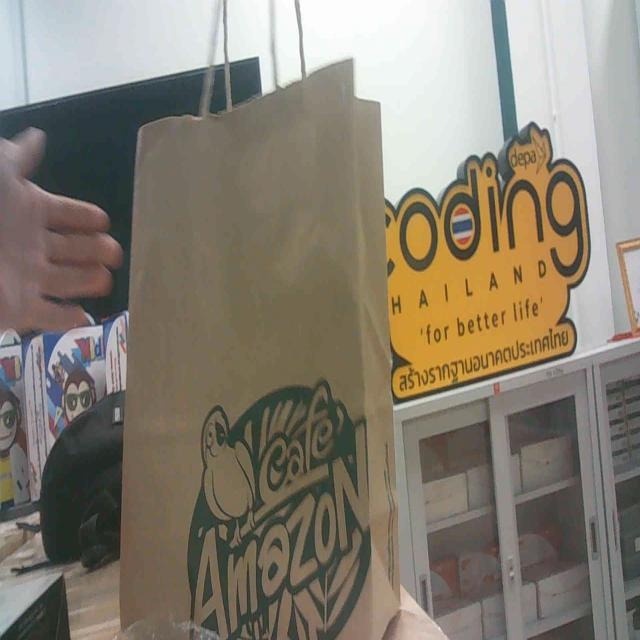bag: (108, 66, 424, 640)
